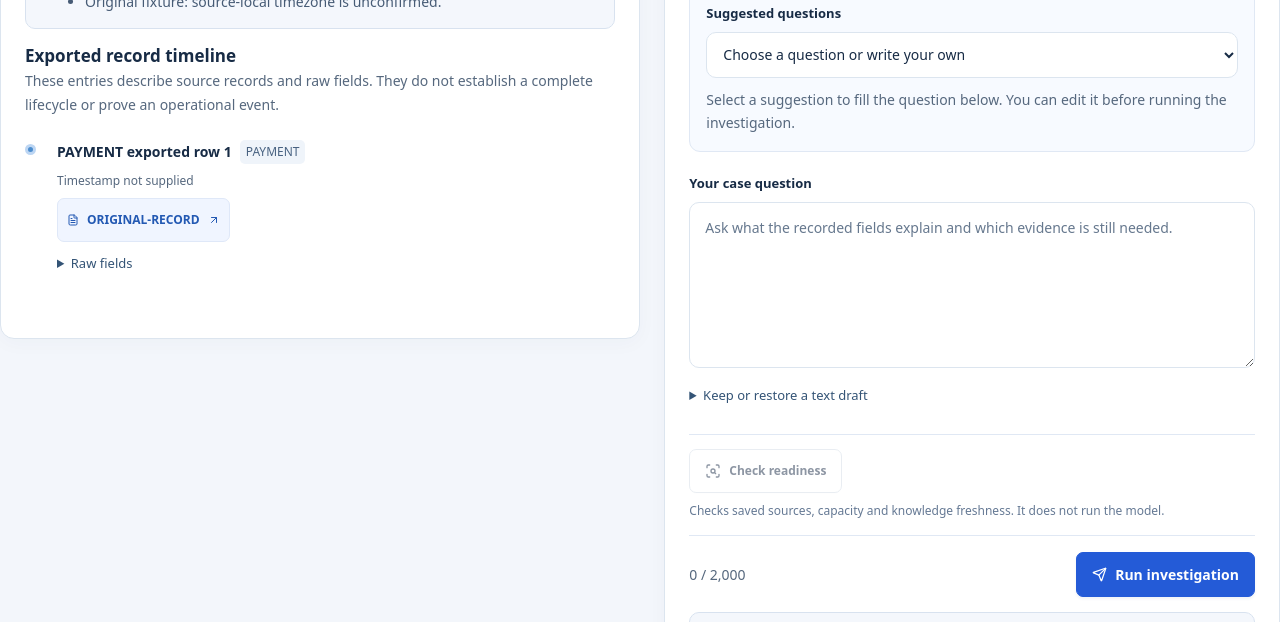
Test: case investigation workbench › handles FAILED polling results without claiming a successful answer
The image size is (1280, 622).
(page scrolled)
Replace the text in the text box labelled "Your case question" with "What does the original fixture establish?" at (972, 285), box top-left (689, 202), bottom-right (1255, 368)
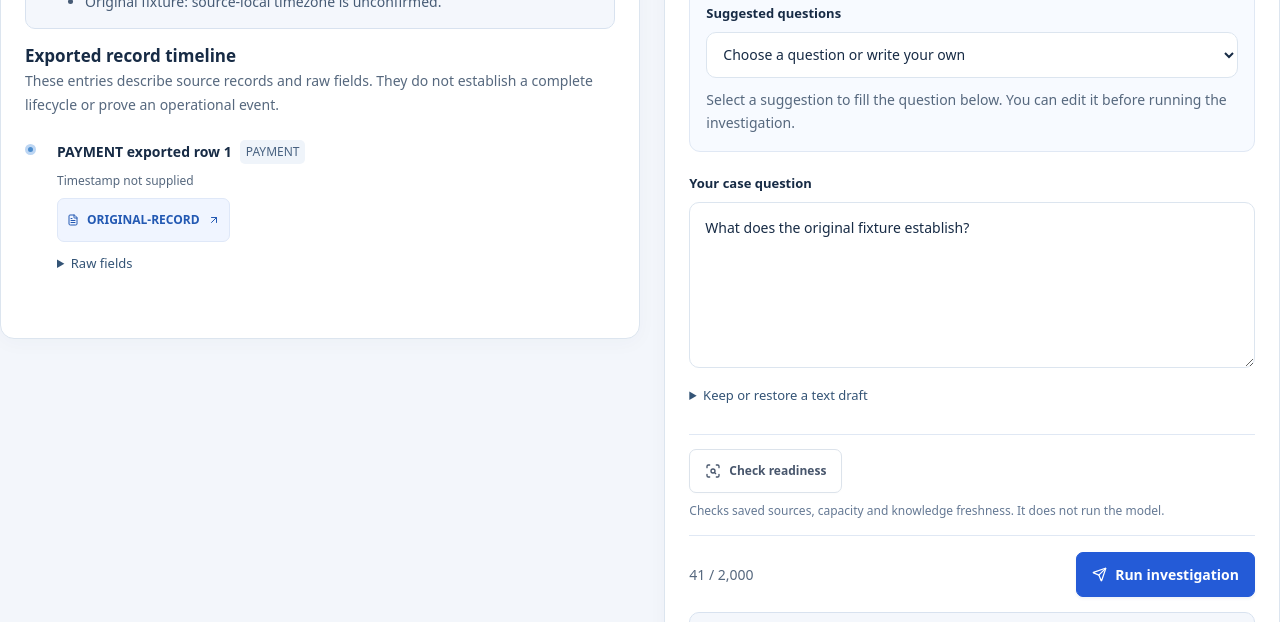
Click the button "Run investigation".
click(1166, 575)  # box top-left (1076, 552), bottom-right (1255, 597)
Wait 10000 ms
(page scrolled)
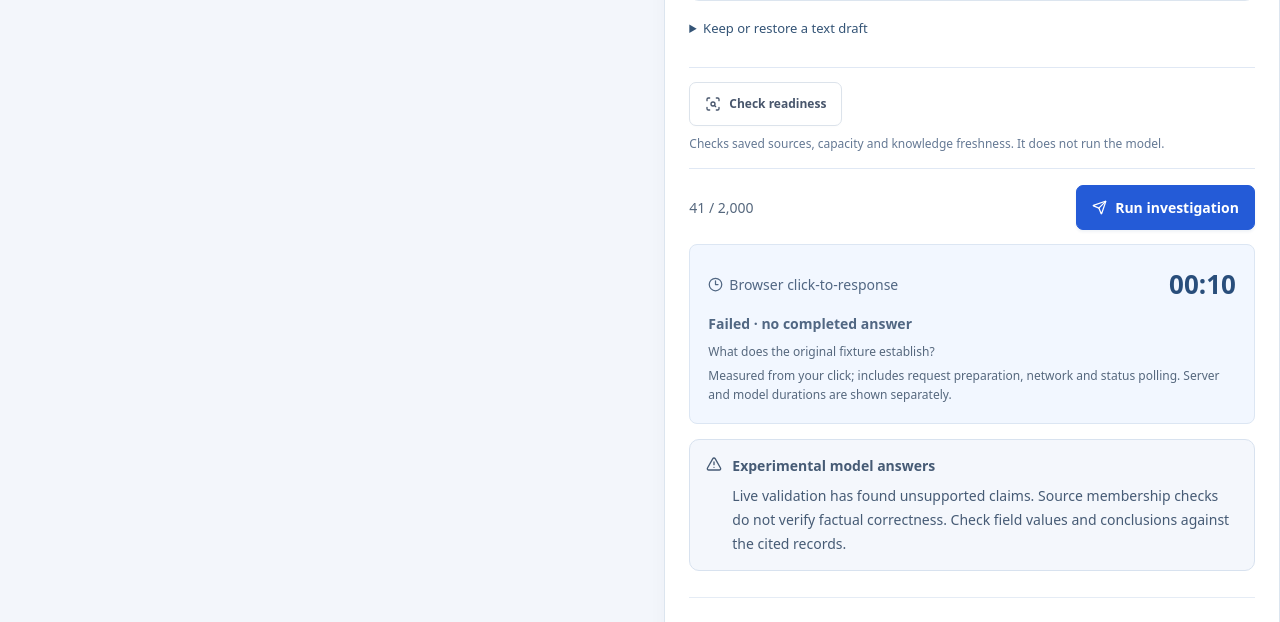
Expected: the text "Failed · no completed answer" is shown, top-left (708, 314), bottom-right (912, 333)
Expected: the text "00:10" is shown, top-left (1169, 263), bottom-right (1236, 306)
